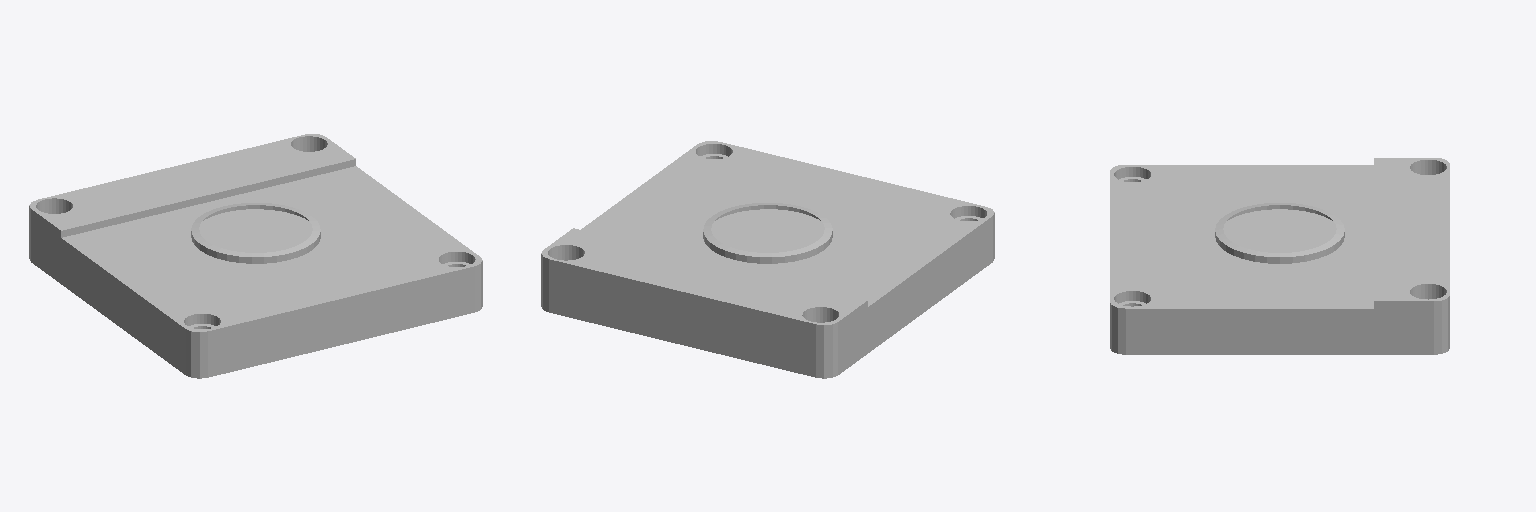
The model's file is bouton_bas.obj.
3 views of the same model, side by side, from view 1: azimuth 30°, elevation 25°; view 2: azimuth 150°, elevation 25°; view 3: azimuth 270°, elevation 25° (orthographic).
Visible parts, largest first — view 1: Desk_RedButton.003_Bouton_Rouge.003_Cube.003; view 2: Desk_RedButton.003_Bouton_Rouge.003_Cube.003; view 3: Desk_RedButton.003_Bouton_Rouge.003_Cube.003.
Boxes of the visible parts, x1,y1,x2,y2 form: Desk_RedButton.003_Bouton_Rouge.003_Cube.003: [29, 134, 482, 378]; Desk_RedButton.003_Bouton_Rouge.003_Cube.003: [541, 141, 994, 378]; Desk_RedButton.003_Bouton_Rouge.003_Cube.003: [1110, 158, 1449, 354].
Bounding box in the file's own units: 0.9778 × 0.1708 × 0.9778.